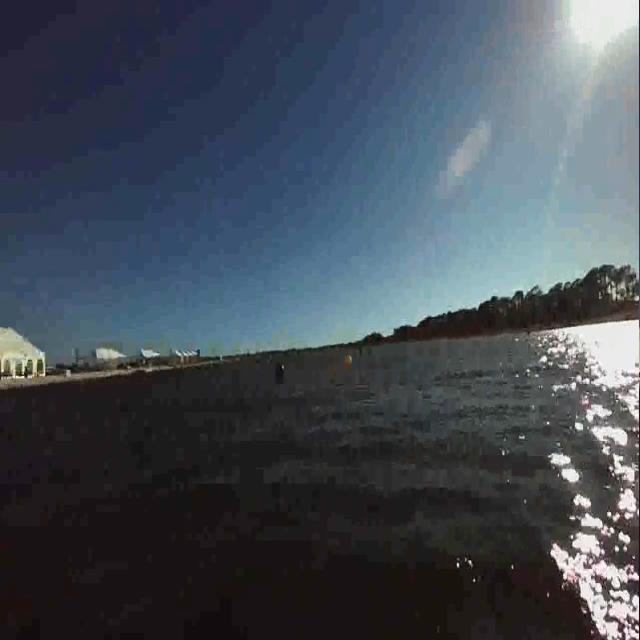black-buoy: (273, 360, 289, 384)
